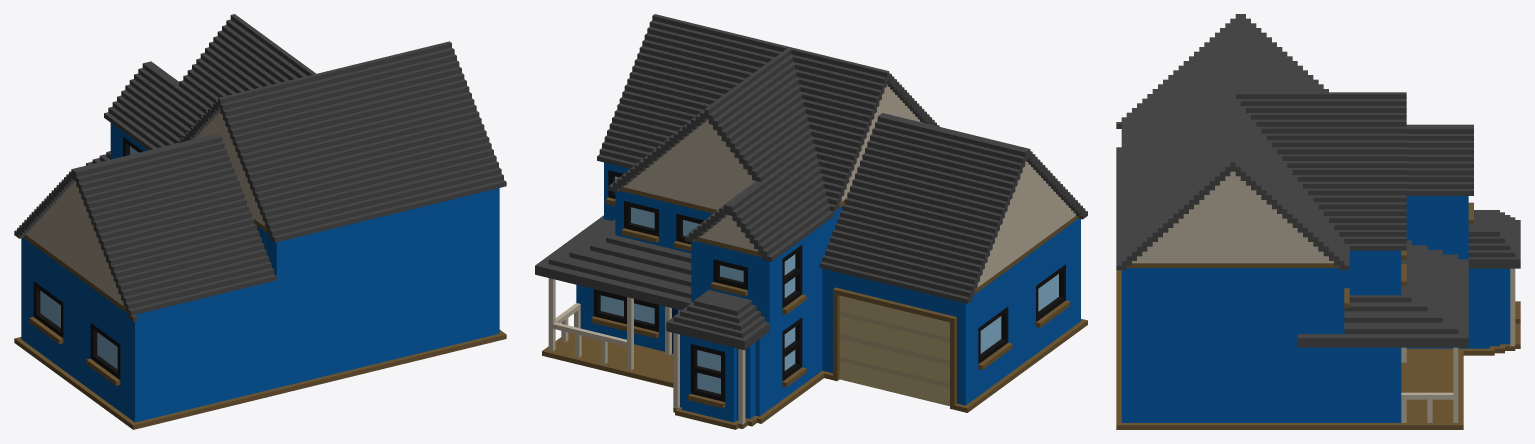
Rendered from Small_home_3.3.obj.
3 views of the same model, side by side, from view 1: azimuth 30°, elevation 25°; view 2: azimuth 150°, elevation 25°; view 3: azimuth 270°, elevation 25° (orthographic). The views are drawn at different scales.
Bounding box in the file's own units: 8.8 × 5.7 × 7.8.
Materials: 1 (1 with a texture image).
